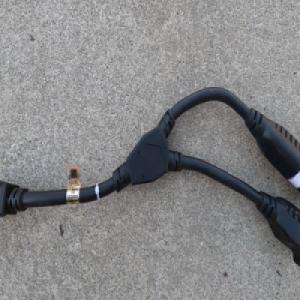Wire: (0, 84, 300, 265)
